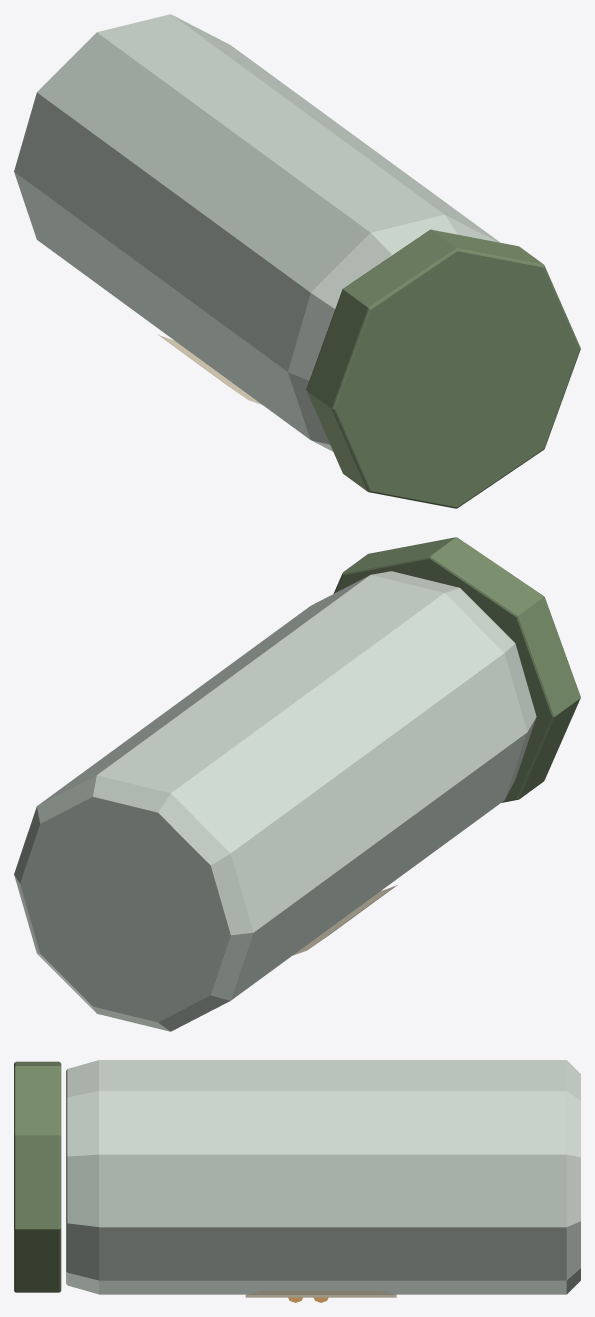
File: cinnamon_sticks.glb
3 renders of one model, top to bottom at view 1: azimuth 30°, elevation 25°; view 2: azimuth 150°, elevation 25°; view 3: azimuth 270°, elevation 25°, orthographic. The views are drawn at different scales.
Parts seen in each view (by area): view 1: cinnamon_sticks; view 2: cinnamon_sticks; view 3: cinnamon_sticks.
Part boxes in pixels (x1,y1,x2,y2): cinnamon_sticks: (14,14,580,508); cinnamon_sticks: (14,537,580,1031); cinnamon_sticks: (14,1060,580,1302).
Bounding box in the file's own units: 0.052 × 0.0526 × 0.12.
